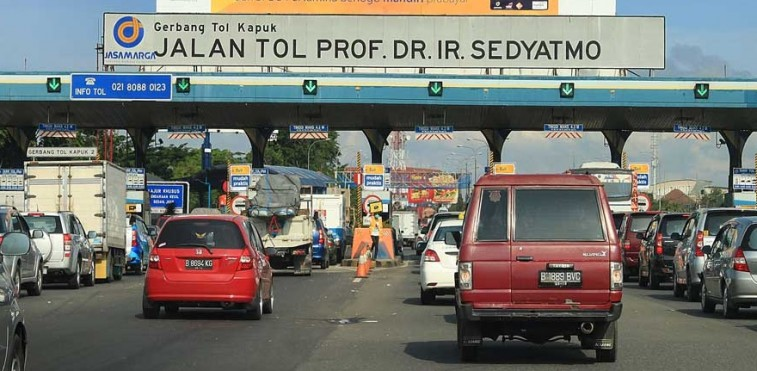plate: (537, 270, 580, 287), (184, 257, 214, 270)
